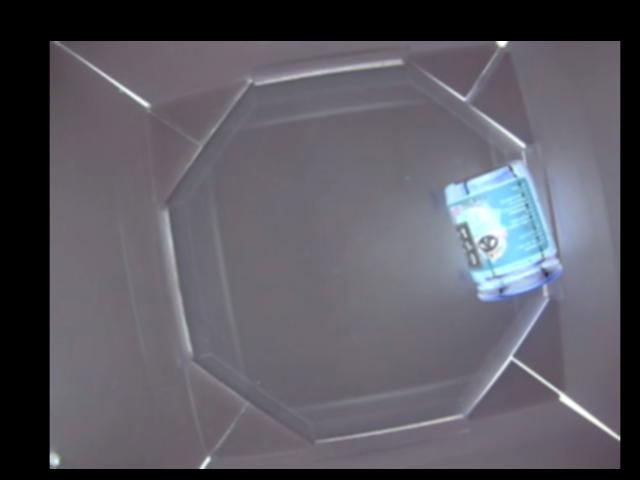Bottle: (444, 161, 566, 298)
